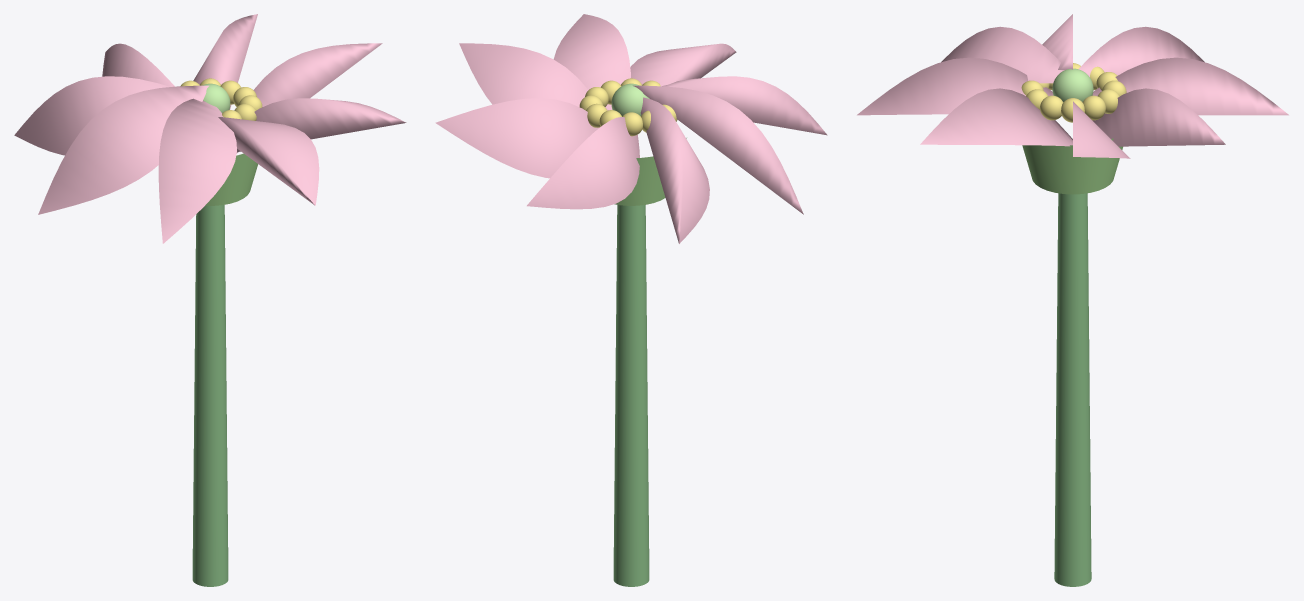
Rendered from flower.glb.
3 renders of one model, left to right at view 1: azimuth 30°, elevation 25°; view 2: azimuth 150°, elevation 25°; view 3: azimuth 270°, elevation 25°, orthographic. The views are drawn at different scales.
Parts seen in each view (by area): view 1: stem, petal_5, petal_4, petal_6, petal_3, petal_1, petal_2, petal_8, petal_7, receptacle, pistil; view 2: stem, petal_8, petal_7, petal_5, petal_1, petal_6, petal_2, petal_4, petal_3, receptacle, pistil; view 3: stem, petal_7, petal_2, petal_3, petal_8, receptacle, petal_4, petal_6, petal_1, pistil, petal_5.
Boxes of the visible parts, x1,y1,x2,y2 form: stem: (192, 205, 228, 586); petal_5: (38, 85, 208, 214); petal_4: (158, 98, 236, 243); petal_6: (14, 76, 169, 155); petal_3: (218, 117, 319, 205); petal_1: (236, 43, 382, 153); petal_2: (237, 98, 406, 152); petal_8: (193, 14, 257, 109); petal_7: (102, 43, 174, 86); receptacle: (205, 153, 257, 205); pistil: (202, 83, 230, 112); stem: (613, 205, 649, 586); petal_8: (435, 98, 599, 178); petal_7: (527, 117, 639, 209); petal_5: (633, 85, 803, 214); petal_1: (459, 43, 588, 106); petal_6: (640, 97, 709, 243); petal_2: (553, 14, 630, 110); petal_4: (662, 76, 827, 135); petal_3: (630, 43, 736, 86); receptacle: (614, 138, 686, 205); pistil: (611, 83, 649, 116); stem: (1054, 193, 1091, 586); petal_7: (1092, 57, 1288, 115); petal_2: (920, 88, 1072, 146); petal_3: (857, 57, 1053, 115); petal_8: (1092, 88, 1225, 146); receptacle: (1022, 138, 1122, 194); petal_4: (941, 26, 1064, 83); petal_6: (1078, 26, 1204, 76); petal_1: (1073, 101, 1130, 158); pistil: (1052, 68, 1093, 101); petal_5: (1042, 14, 1072, 69).
Bounding box in the file's own units: 0.9914 × 1.39 × 1.05.
